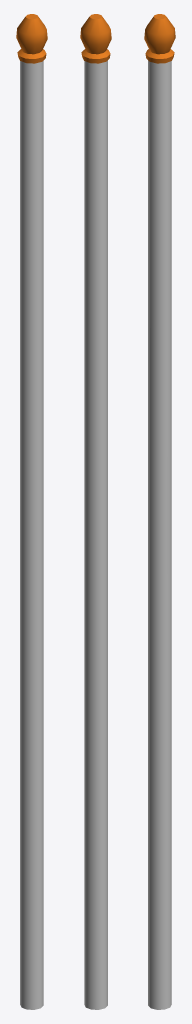
File: flagpole.FBX
3 renders of one model, left to right at view 1: azimuth 30°, elevation 25°; view 2: azimuth 210°, elevation 25°; view 3: azimuth 330°, elevation 25°, orthographic.
Visible parts, largest first — view 1: Cylinder001, Cylinder002; view 2: Cylinder001, Cylinder002; view 3: Cylinder001, Cylinder002.
Part boxes in pixels (bbox=[...]): Cylinder001: bbox=[20, 61, 43, 1009]; Cylinder002: bbox=[16, 14, 47, 63]; Cylinder001: bbox=[84, 60, 107, 1009]; Cylinder002: bbox=[80, 14, 111, 63]; Cylinder001: bbox=[148, 60, 171, 1009]; Cylinder002: bbox=[144, 14, 175, 63].
Bounding box in the file's own units: 0.122 × 0.116 × 4.2.
